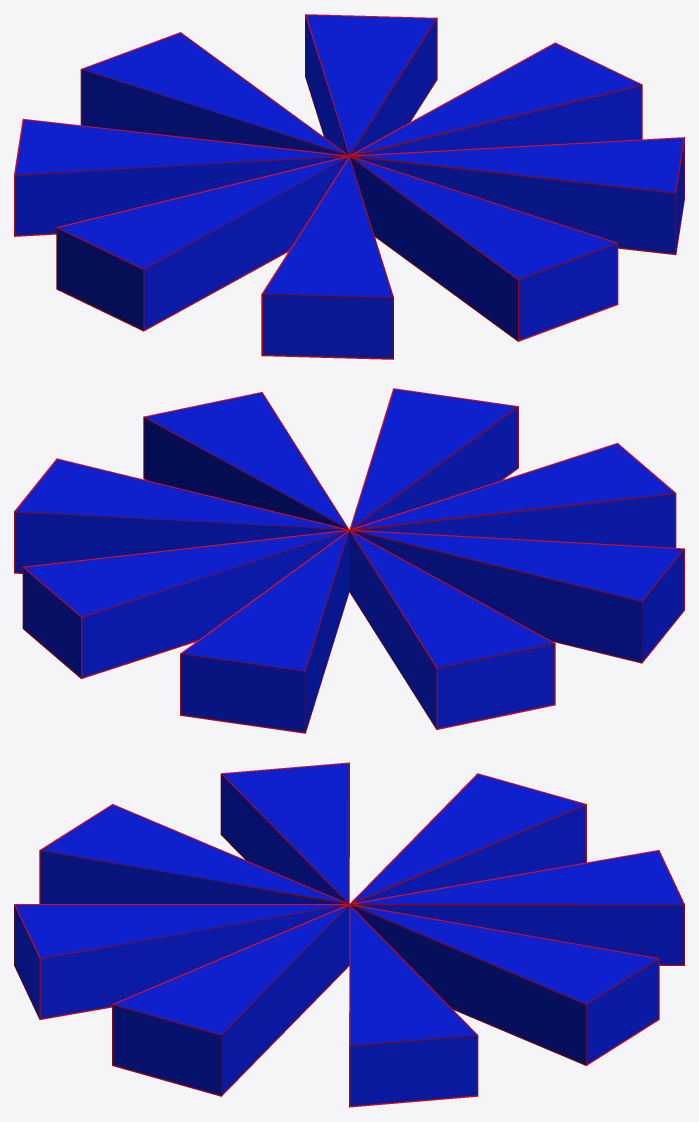
The picture shows the model from 3 angles, top to bottom: view 1: azimuth 30°, elevation 25°; view 2: azimuth 150°, elevation 25°; view 3: azimuth 270°, elevation 25°; orthographic projection.
Visible parts, largest first — view 1: L7_Cylinder_F2; view 2: L7_Cylinder_F2; view 3: L7_Cylinder_F2.
Boxes of the visible parts, bbox=[...] form: L7_Cylinder_F2: bbox=[14, 14, 684, 359]; L7_Cylinder_F2: bbox=[14, 388, 684, 733]; L7_Cylinder_F2: bbox=[14, 762, 684, 1107].
Size of the model in its own units: 2003 by 205 by 2003.
